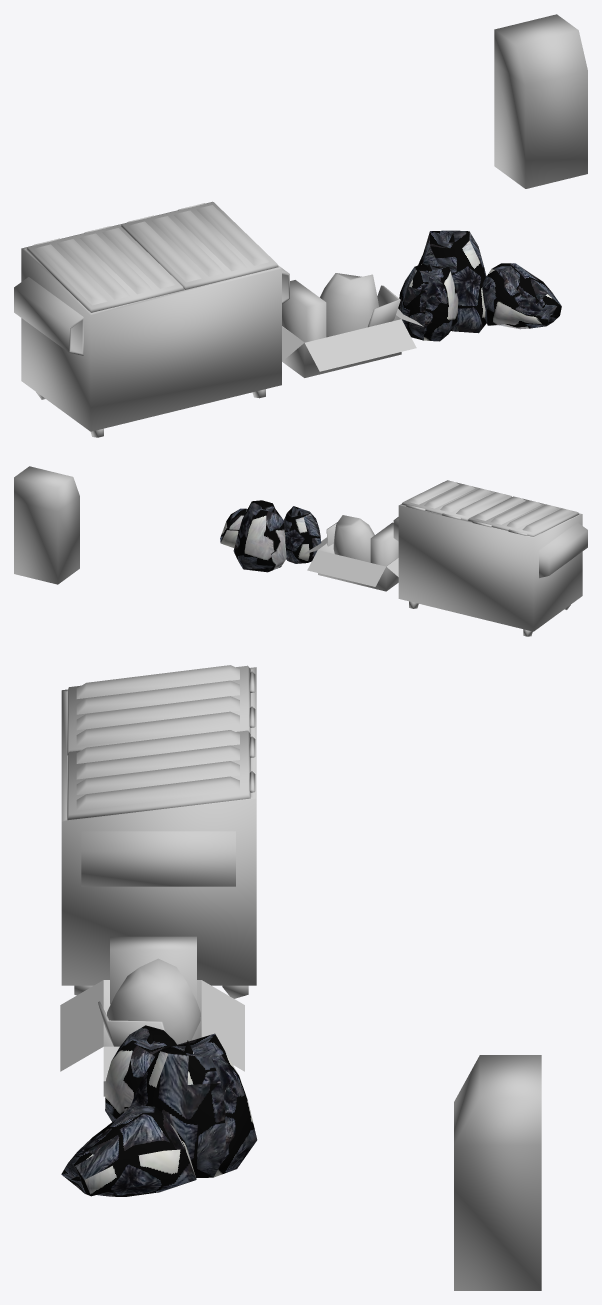
The model's file is Trash 1.fbx.
3 views of the same model, one above another, from view 1: azimuth 30°, elevation 25°; view 2: azimuth 150°, elevation 25°; view 3: azimuth 270°, elevation 25° (orthographic). The views are drawn at different scales.
Parts seen in each view (by area): view 1: Dumpster, Trash, Trash_02, Dumpster_D, Dumpster_D_01, Garbage_bag_02, Garbage_bag_01, Garbage_bag; view 2: Dumpster, Trash, Trash_02, Garbage_bag_01, Dumpster_D, Dumpster_D_01, Garbage_bag, Garbage_bag_02; view 3: Dumpster, Trash, Trash_02, Dumpster_D_01, Dumpster_D, Garbage_bag_01, Garbage_bag_02, Garbage_bag.
Boxes of the visible parts, <box> form: Dumpster: <box>14,201,289,437</box>; Trash: <box>494,14,587,188</box>; Trash_02: <box>282,273,423,377</box>; Dumpster_D: <box>26,225,184,312</box>; Dumpster_D_01: <box>121,202,278,289</box>; Garbage_bag_02: <box>482,263,561,329</box>; Garbage_bag_01: <box>418,230,486,333</box>; Garbage_bag: <box>398,264,458,341</box>; Dumpster: <box>393,504,587,636</box>; Trash: <box>14,466,79,584</box>; Trash_02: <box>302,515,398,591</box>; Garbage_bag_01: <box>233,500,286,572</box>; Dumpster_D: <box>468,496,579,536</box>; Dumpster_D_01: <box>401,480,511,520</box>; Garbage_bag: <box>284,506,321,563</box>; Garbage_bag_02: <box>220,508,247,547</box>; Dumpster: <box>61,667,256,998</box>; Trash: <box>454,1055,541,1290</box>; Trash_02: <box>60,936,244,1096</box>; Dumpster_D_01: <box>67,730,255,820</box>; Dumpster_D: <box>67,665,255,755</box>; Garbage_bag_01: <box>131,1033,257,1178</box>; Garbage_bag_02: <box>61,1104,196,1196</box>; Garbage_bag: <box>105,1025,176,1121</box>.
Size of the model in its own units: 879 by 205 by 399.
